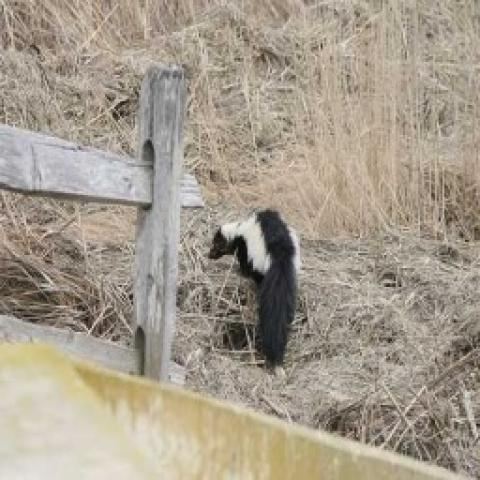small_animal: (204, 204, 302, 370)
